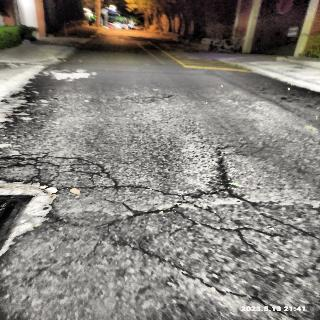alligator-crack: (31, 137, 320, 268)
